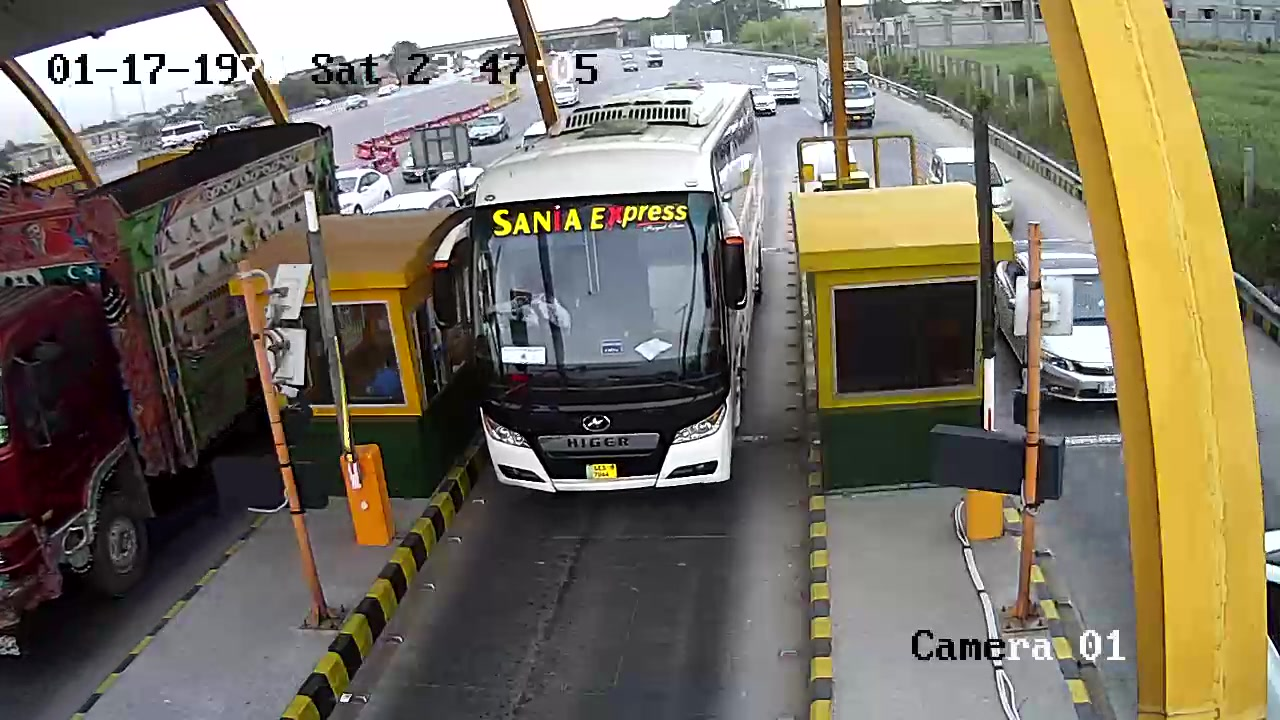F4: (483, 77, 760, 502)
